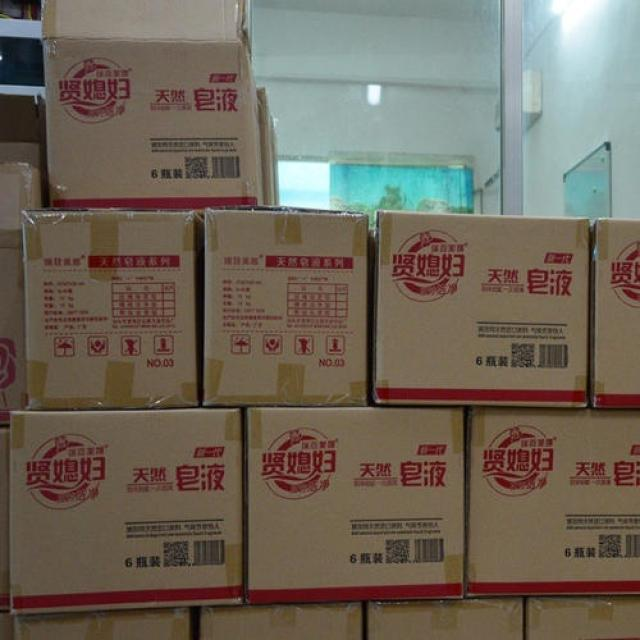box: (10, 405, 247, 616), (42, 7, 265, 209), (243, 405, 465, 604), (366, 213, 590, 408), (20, 208, 199, 409), (195, 209, 368, 405), (465, 407, 639, 597), (589, 217, 639, 407), (188, 601, 366, 639), (365, 597, 524, 639), (12, 607, 189, 639), (523, 593, 639, 638)
